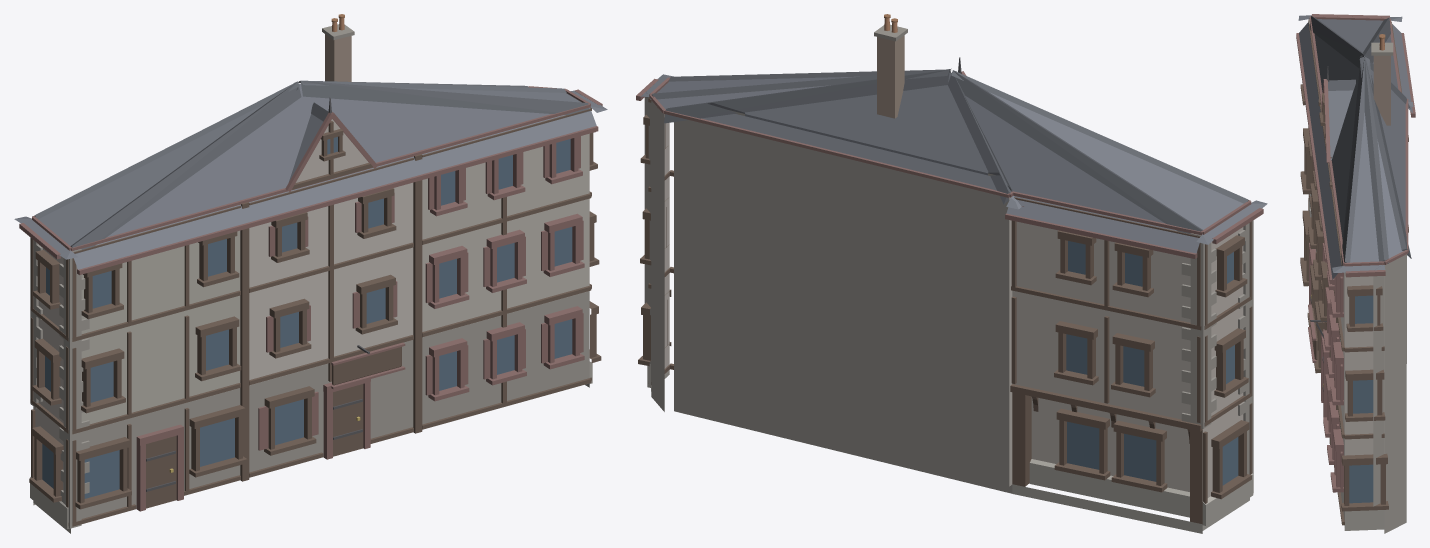
File: b052_closed.glb
The picture shows the model from 3 angles, left to right: view 1: azimuth 30°, elevation 25°; view 2: azimuth 150°, elevation 25°; view 3: azimuth 270°, elevation 25°; orthographic projection. The views are drawn at different scales.
Parts seen in each view (by area): view 1: B052_visible; view 2: B052_visible; view 3: B052_visible.
Part boxes in pixels (x1,y1,x2,y2): B052_visible: (14,14,607,533); B052_visible: (636,14,1267,533); B052_visible: (1296,14,1415,533).
Size of the model in its own units: 20.45 by 14.49 by 3.98.
